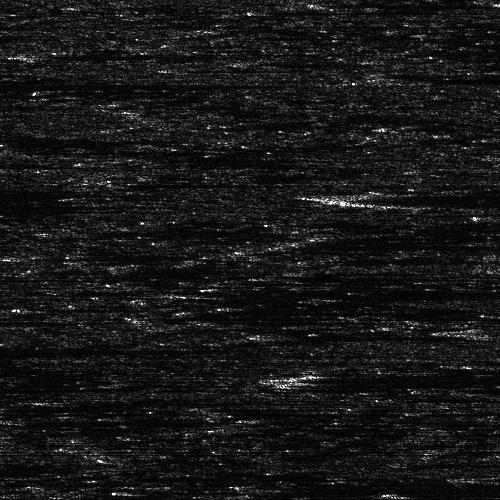object: (218, 366, 363, 391), (249, 232, 342, 251), (402, 320, 500, 337), (5, 395, 110, 404), (242, 327, 295, 342), (0, 252, 99, 259), (0, 49, 67, 58), (455, 470, 500, 479), (91, 179, 144, 186), (0, 416, 39, 425), (378, 74, 431, 79), (318, 193, 329, 204), (231, 411, 252, 414)
shadow: (291, 366, 500, 391), (296, 232, 500, 251), (0, 76, 247, 91), (58, 395, 312, 404), (269, 327, 403, 342), (323, 193, 500, 204), (31, 49, 225, 58), (0, 416, 179, 425), (0, 346, 200, 353), (118, 179, 249, 186), (47, 252, 174, 259), (242, 411, 500, 414), (405, 74, 500, 79)
